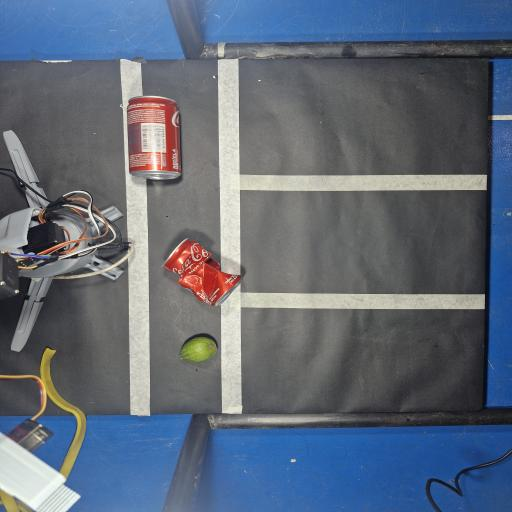higo: (179, 337, 217, 363)
lata: (127, 96, 181, 180)
lata_defectuoso: (163, 239, 242, 306)
